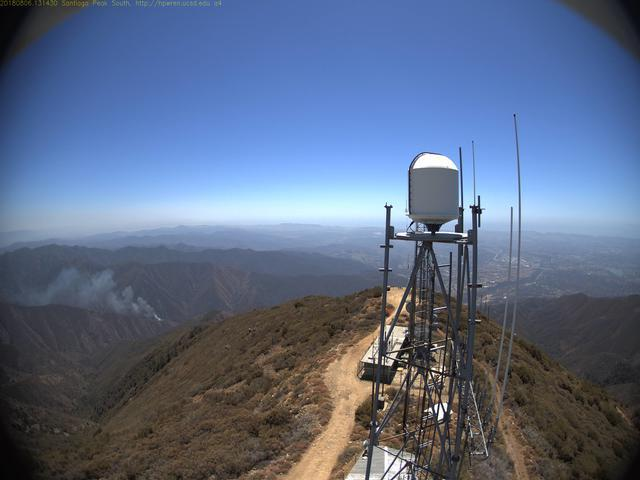smoke: (4, 260, 170, 332)
